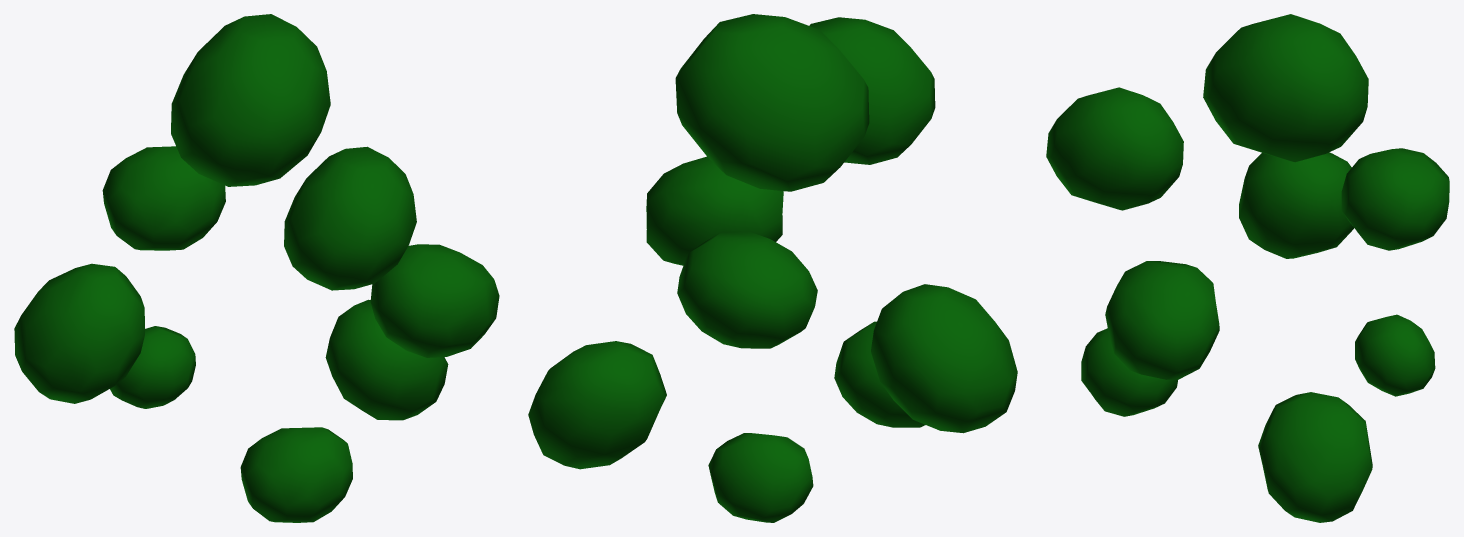
The model's file is apple tree2.FBX.
The picture shows the model from 3 angles, left to right: view 1: azimuth 30°, elevation 25°; view 2: azimuth 150°, elevation 25°; view 3: azimuth 270°, elevation 25°; orthographic projection. The views are drawn at different scales.
Parts seen in each view (by area): view 1: Hedra006, Hedra007, Hedra005, Hedra004, Hedra008, Hedra010, Hedra002, Hedra009; view 2: Hedra006, Hedra005, Hedra010, Hedra008, Hedra007, Hedra004, Hedra009, Hedra002; view 3: Hedra006, Hedra007, Hedra010, Hedra004, Hedra005, Hedra008, Hedra009, Hedra002.
Part boxes in pixels (x1,y1,x2,y2): Hedra006: (171, 14, 330, 186); Hedra007: (284, 146, 416, 290); Hedra005: (14, 263, 144, 403); Hedra004: (370, 244, 499, 357); Hedra008: (102, 146, 225, 250); Hedra010: (325, 299, 448, 420); Hedra002: (240, 427, 352, 522); Hedra009: (110, 326, 195, 408); Hedra006: (675, 14, 869, 191); Hedra005: (871, 284, 1017, 433); Hedra010: (528, 341, 666, 469); Hedra008: (677, 231, 817, 348); Hedra007: (809, 17, 935, 164); Hedra004: (646, 156, 783, 265); Hedra009: (708, 433, 813, 522); Hedra002: (834, 321, 925, 427); Hedra006: (1203, 14, 1368, 162); Hedra007: (1046, 87, 1183, 210); Hedra010: (1258, 392, 1372, 522); Hedra004: (1105, 261, 1219, 379); Hedra005: (1239, 152, 1354, 258); Hedra008: (1341, 148, 1449, 250); Hedra009: (1355, 314, 1435, 396); Hedra002: (1081, 328, 1177, 416).
Size of the model in its own units: 160 by 156 by 135.
